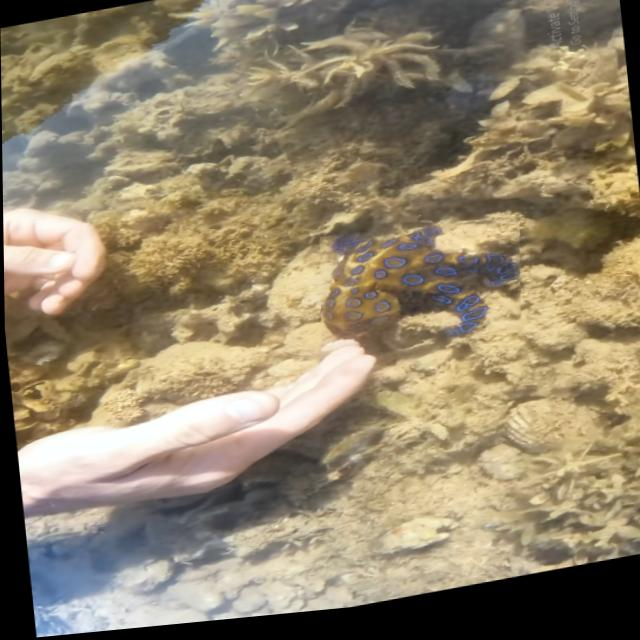blue_ringed_octopus: (311, 213, 527, 370)
